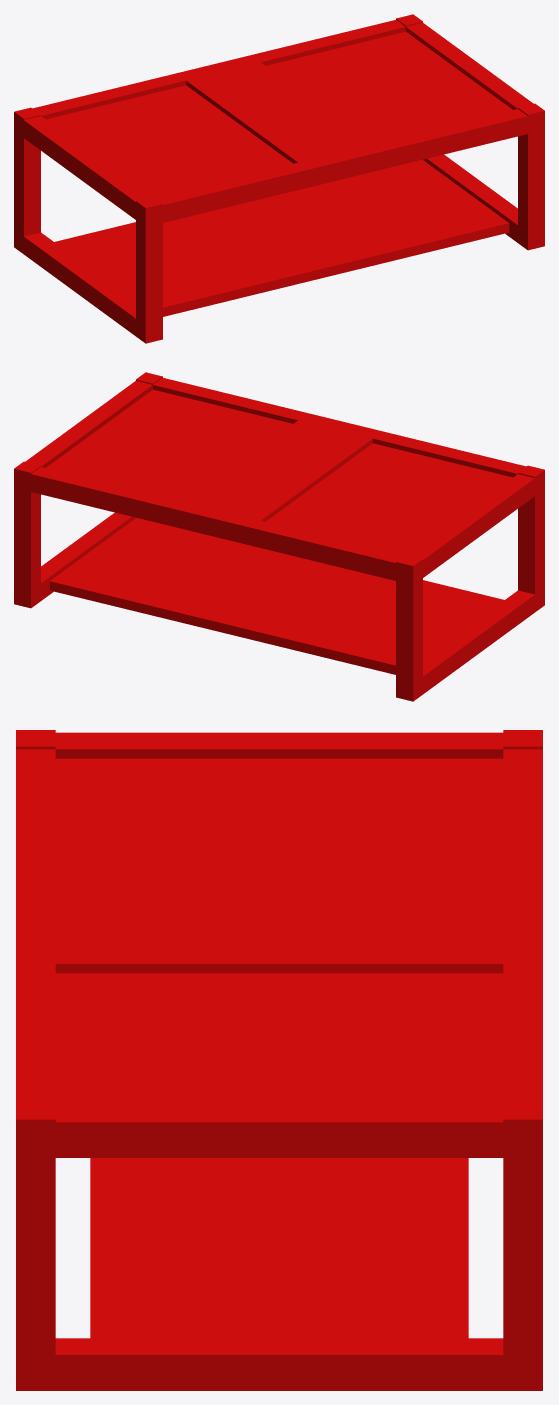
The model's file is smallTable.fbx.
3 views of the same model, one above another, from view 1: azimuth 30°, elevation 25°; view 2: azimuth 150°, elevation 25°; view 3: azimuth 270°, elevation 25° (orthographic). The views are drawn at different scales.
Visible parts, largest first — view 1: smallTable; view 2: smallTable; view 3: smallTable.
Boxes of the visible parts, x1=… form: smallTable: x1=14, y1=14, x2=544, y2=343; smallTable: x1=14, y1=372, x2=544, y2=701; smallTable: x1=16, y1=730, x2=542, y2=1390.
Bounding box in the file's own units: 140 × 45.42 × 80.
